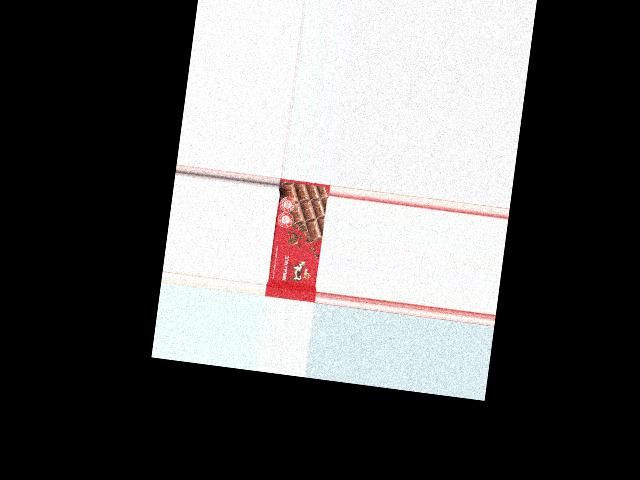chocolate: (264, 179, 329, 303)
